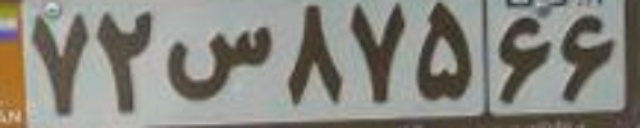2: (95, 11, 154, 115)
5: (417, 1, 471, 102)
6: (493, 16, 554, 104), (563, 13, 616, 103)
7: (27, 14, 91, 115), (347, 2, 409, 104)
8: (287, 4, 346, 105)
sin: (161, 25, 271, 101)
